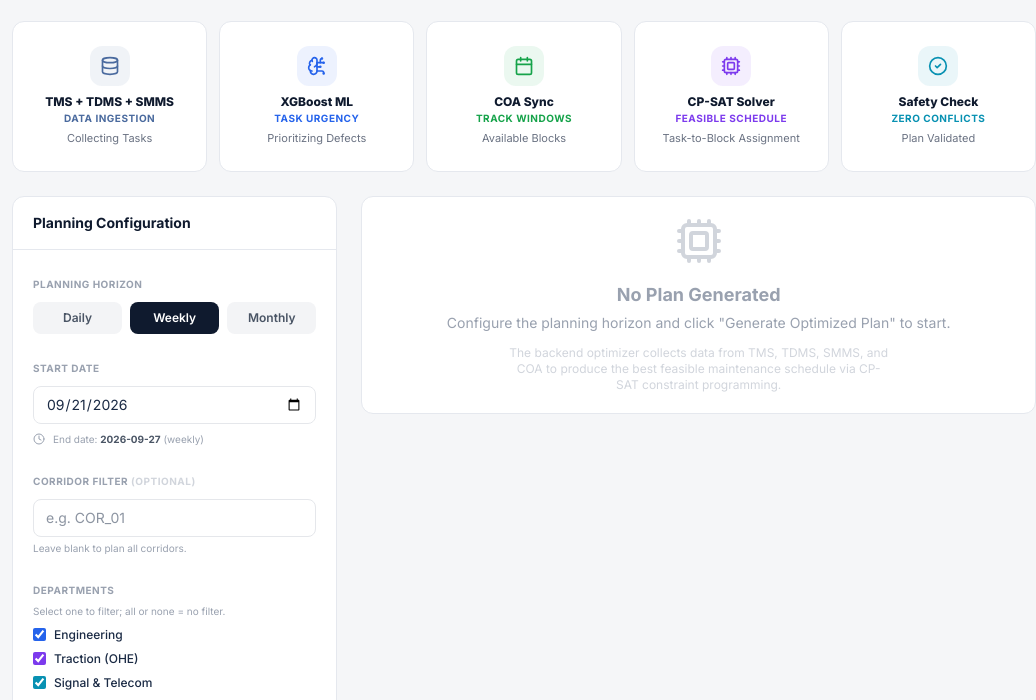
Scenario: PlannerPage — Generate Plan Integration › shows error banner on API failure (503)
The width and height of the screenshot is (1036, 700).
In the date field labelled "Start Date": x=175, y=404 [33,386,316,424], type "2026-08-29"
(page scrolled)
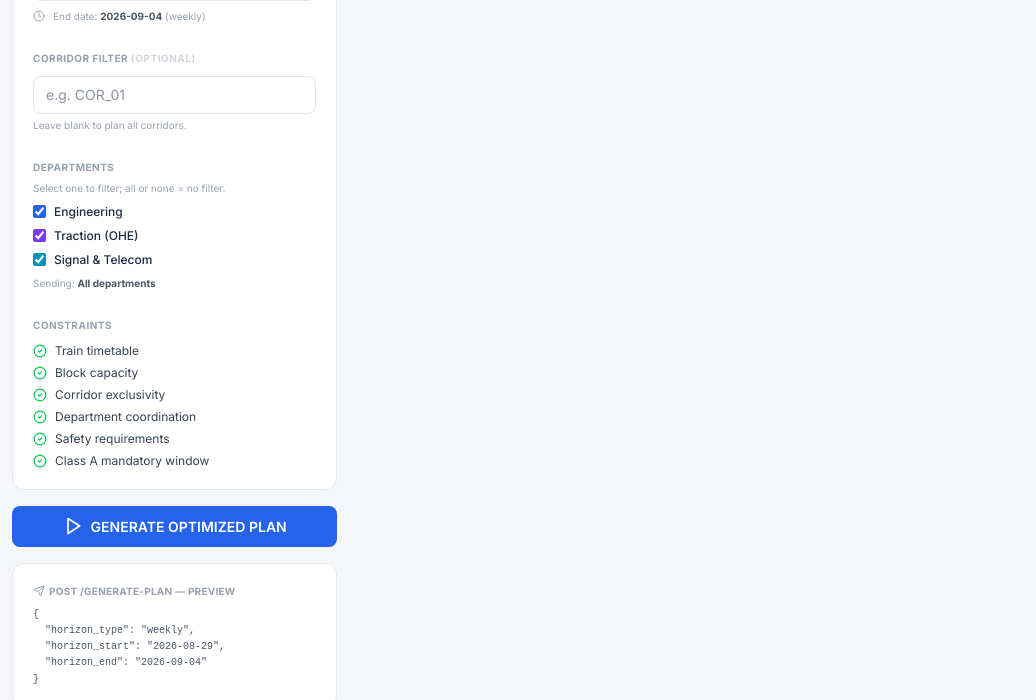
Click the button "GENERATE OPTIMIZED PLAN": x=175, y=526 [12,506,337,546]
(page scrolled)
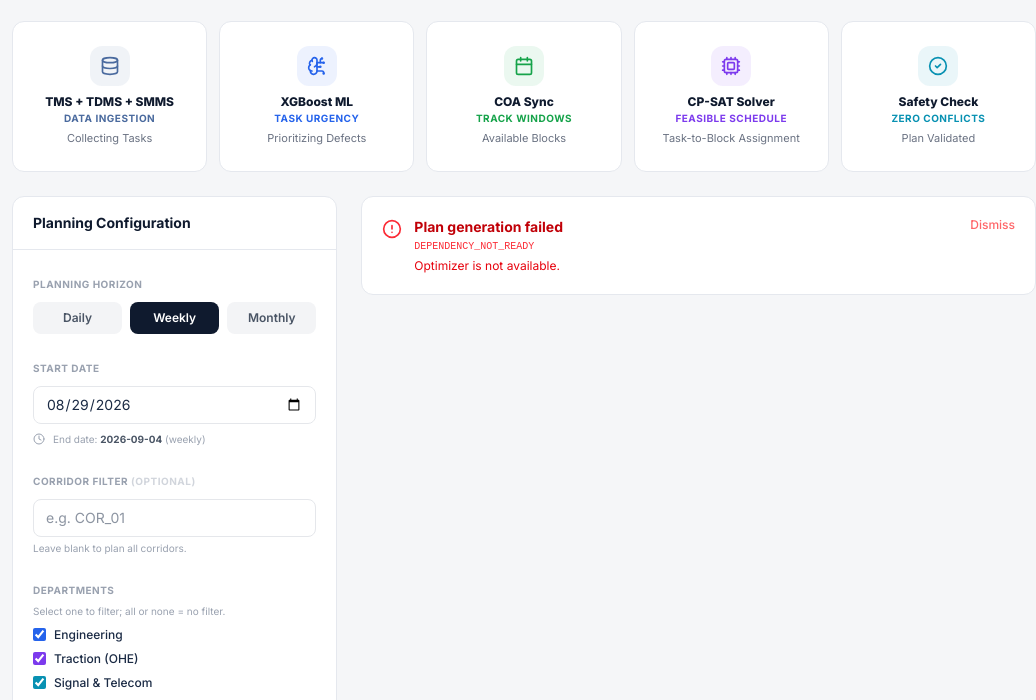
Expected: the text "Plan generation failed" is shown, [414,218,563,234]
Expected: the text "Optimizer is not available." is shown, [414,258,560,272]
